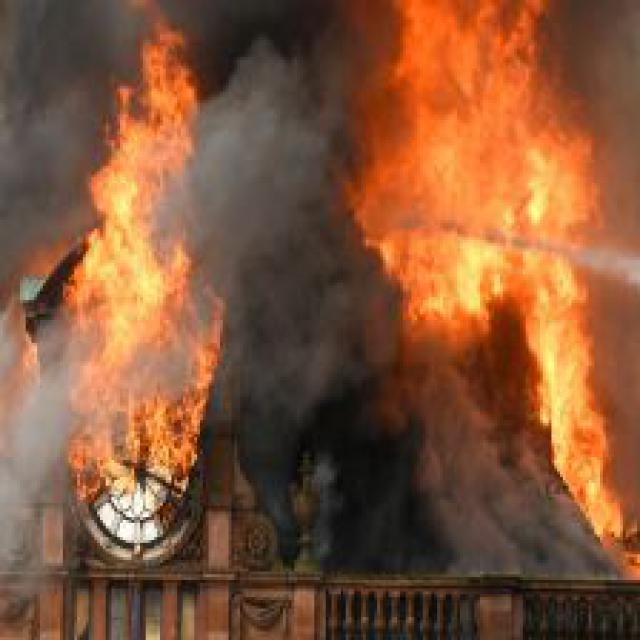fire: (332, 3, 637, 554), (17, 6, 240, 497)
